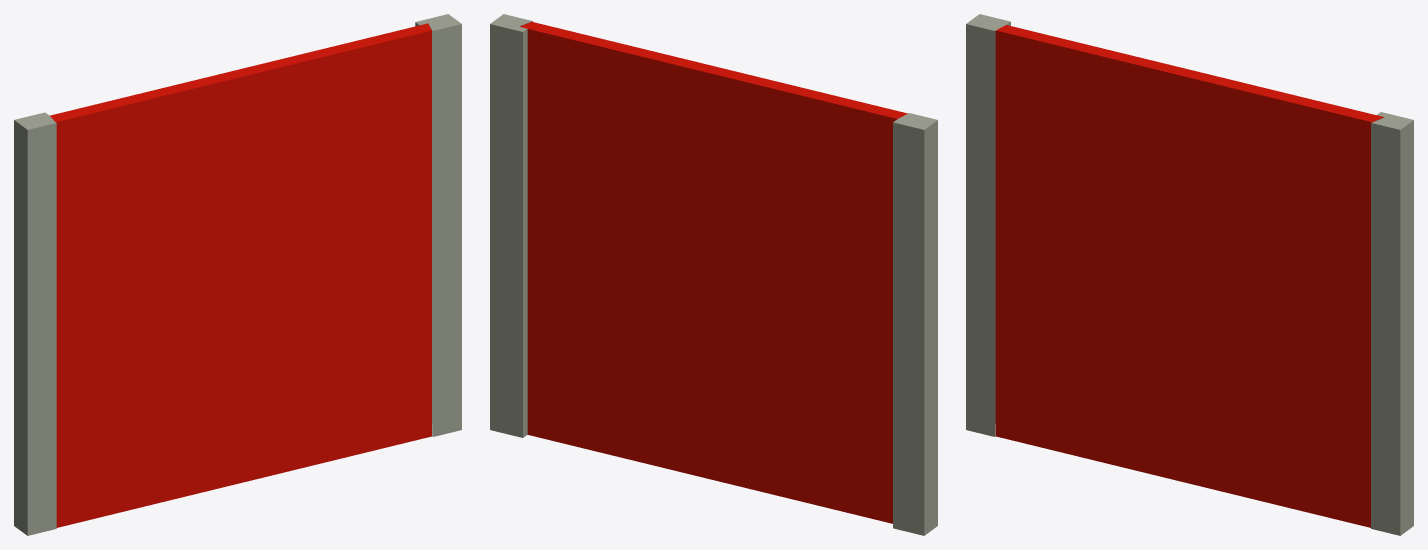
The model's file is parede_direita.gltf.
The picture shows the model from 3 angles, left to right: view 1: azimuth 30°, elevation 25°; view 2: azimuth 150°, elevation 25°; view 3: azimuth 330°, elevation 25°; orthographic projection.
Visible parts, largest first — view 1: Parede vazia; view 2: Parede vazia; view 3: Parede vazia.
Boxes of the visible parts, <box> form: Parede vazia: <box>14,14,461,535</box>; Parede vazia: <box>490,14,937,535</box>; Parede vazia: <box>966,14,1413,535</box>.
Size of the model in its own units: 1.43 by 1.28 by 0.0782.
